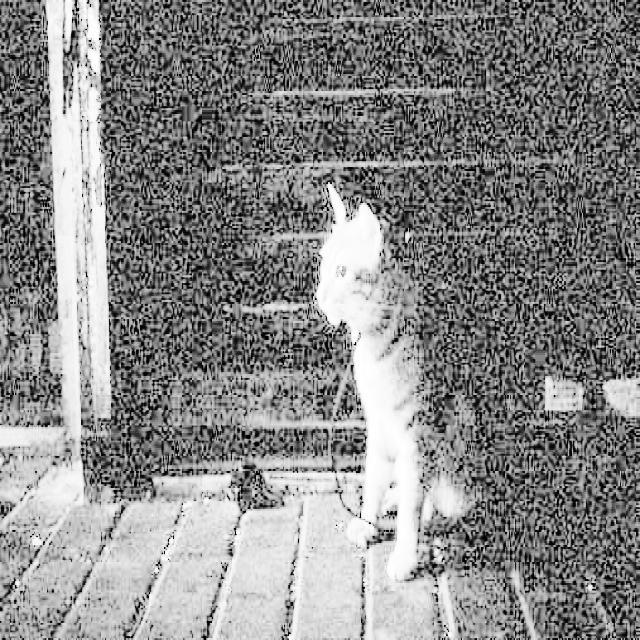Cat: (302, 143, 513, 619)
